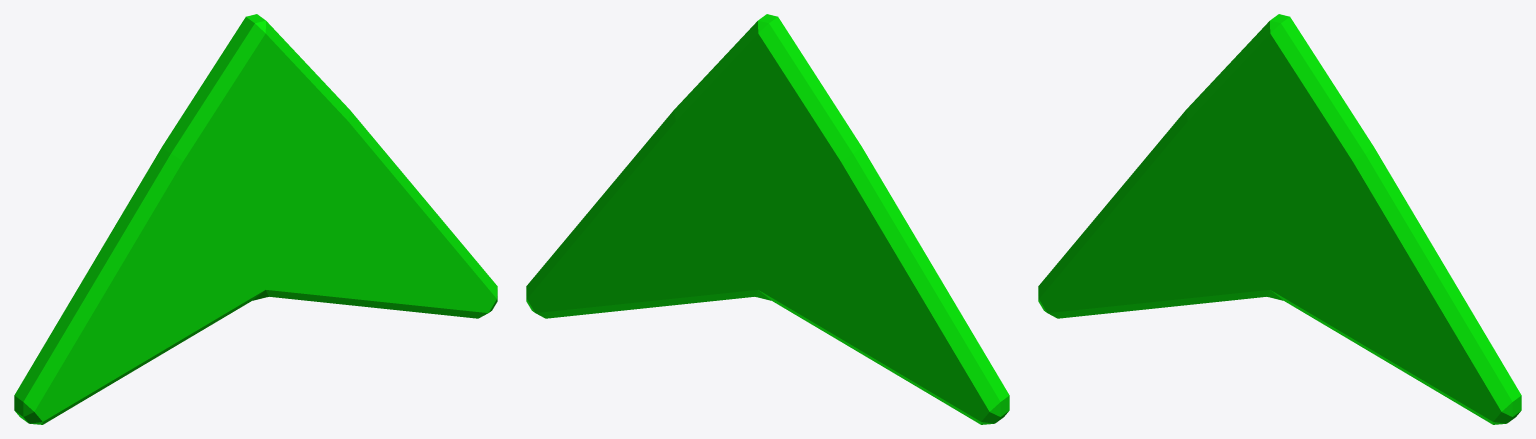
The model's file is PointerArrow_old.fbx.
The picture shows the model from 3 angles, left to right: view 1: azimuth 30°, elevation 25°; view 2: azimuth 150°, elevation 25°; view 3: azimuth 330°, elevation 25°; orthographic projection.
Parts seen in each view (by area): view 1: PointerArrow; view 2: PointerArrow; view 3: PointerArrow.
Part boxes in pixels (bbox=[...]): PointerArrow: bbox=[14, 14, 497, 424]; PointerArrow: bbox=[526, 14, 1009, 424]; PointerArrow: bbox=[1038, 14, 1521, 424].
Bounding box in the file's own units: 1.32 × 0.933 × 0.0938.
